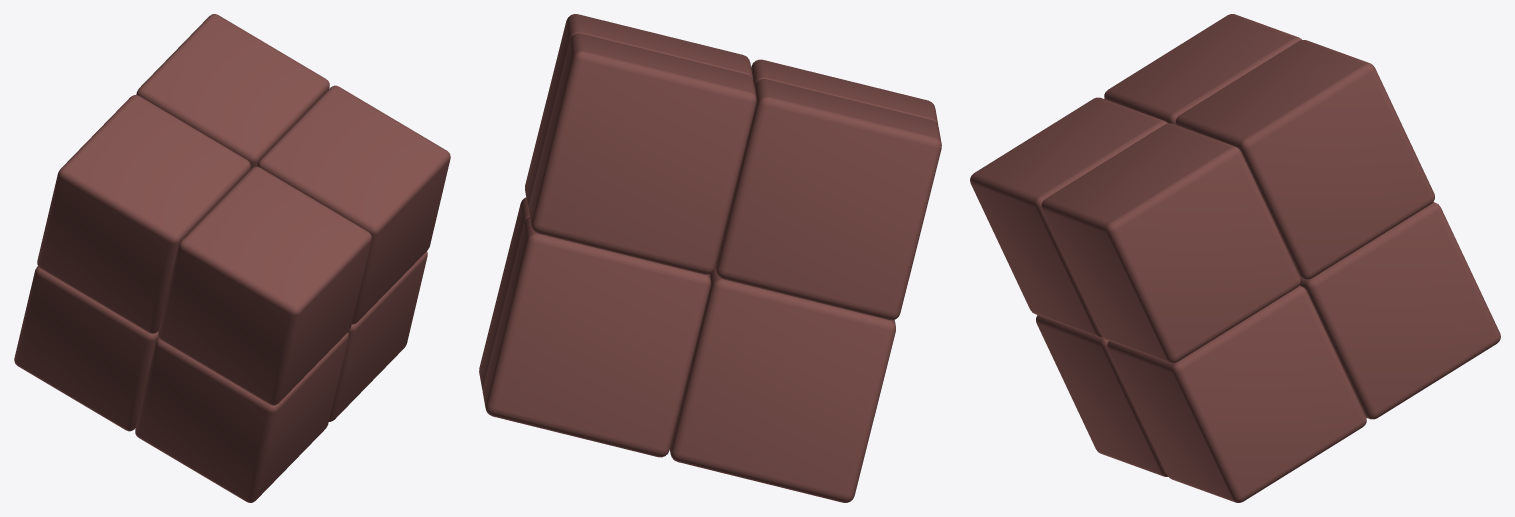
Rendered from figure-1.glb.
3 renders of one model, left to right at view 1: azimuth 30°, elevation 25°; view 2: azimuth 150°, elevation 25°; view 3: azimuth 270°, elevation 25°, orthographic. The views are drawn at different scales.
Parts seen in each view (by area): view 1: Cube.033; view 2: Cube.033; view 3: Cube.033.
Part boxes in pixels (box(x1,y1,x2,y2)): Cube.033: box(14, 14, 450, 502); Cube.033: box(479, 14, 941, 502); Cube.033: box(970, 14, 1500, 502).
Size of the model in its own units: 5.03 by 5.25 by 5.82.
